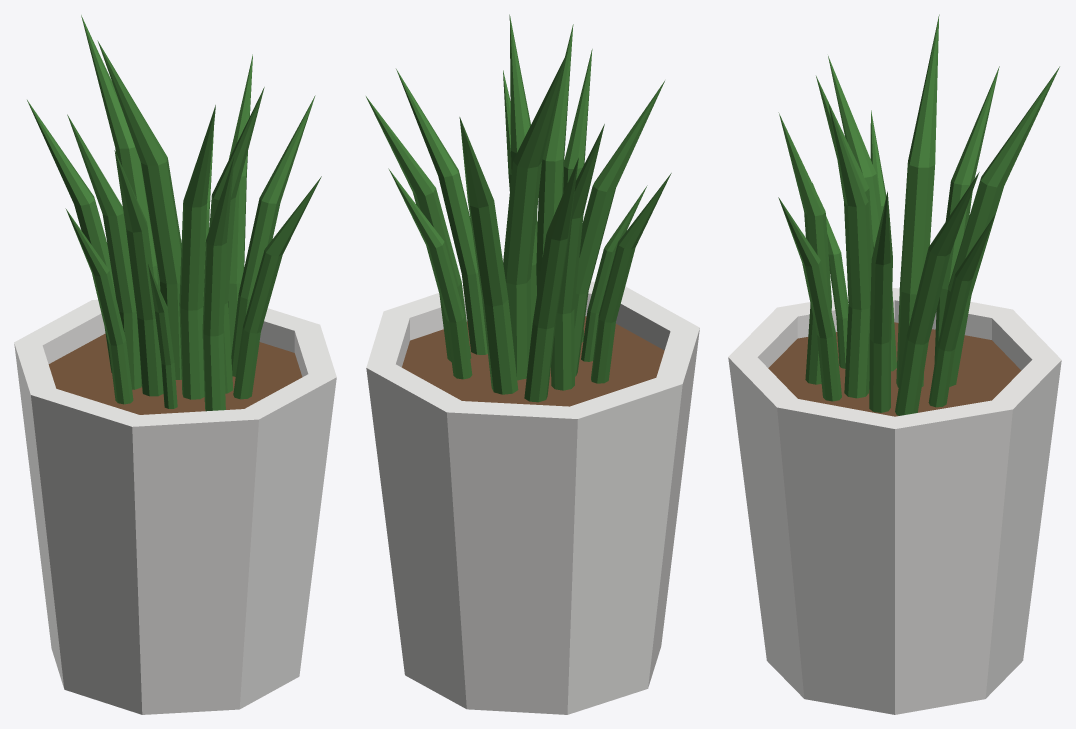
File: Flower_27.fbx
The picture shows the model from 3 angles, left to right: view 1: azimuth 30°, elevation 25°; view 2: azimuth 150°, elevation 25°; view 3: azimuth 270°, elevation 25°; orthographic projection. The views are drawn at different scales.
Parts seen in each view (by area): view 1: Flower_27; view 2: Flower_27; view 3: Flower_27.
Part boxes in pixels (x1,y1,x2,y2): Flower_27: (14,15,336,714); Flower_27: (366,14,699,714); Flower_27: (728,14,1061,714).
Bounding box in the file's own units: 40.66 × 40.66 × 83.31.
